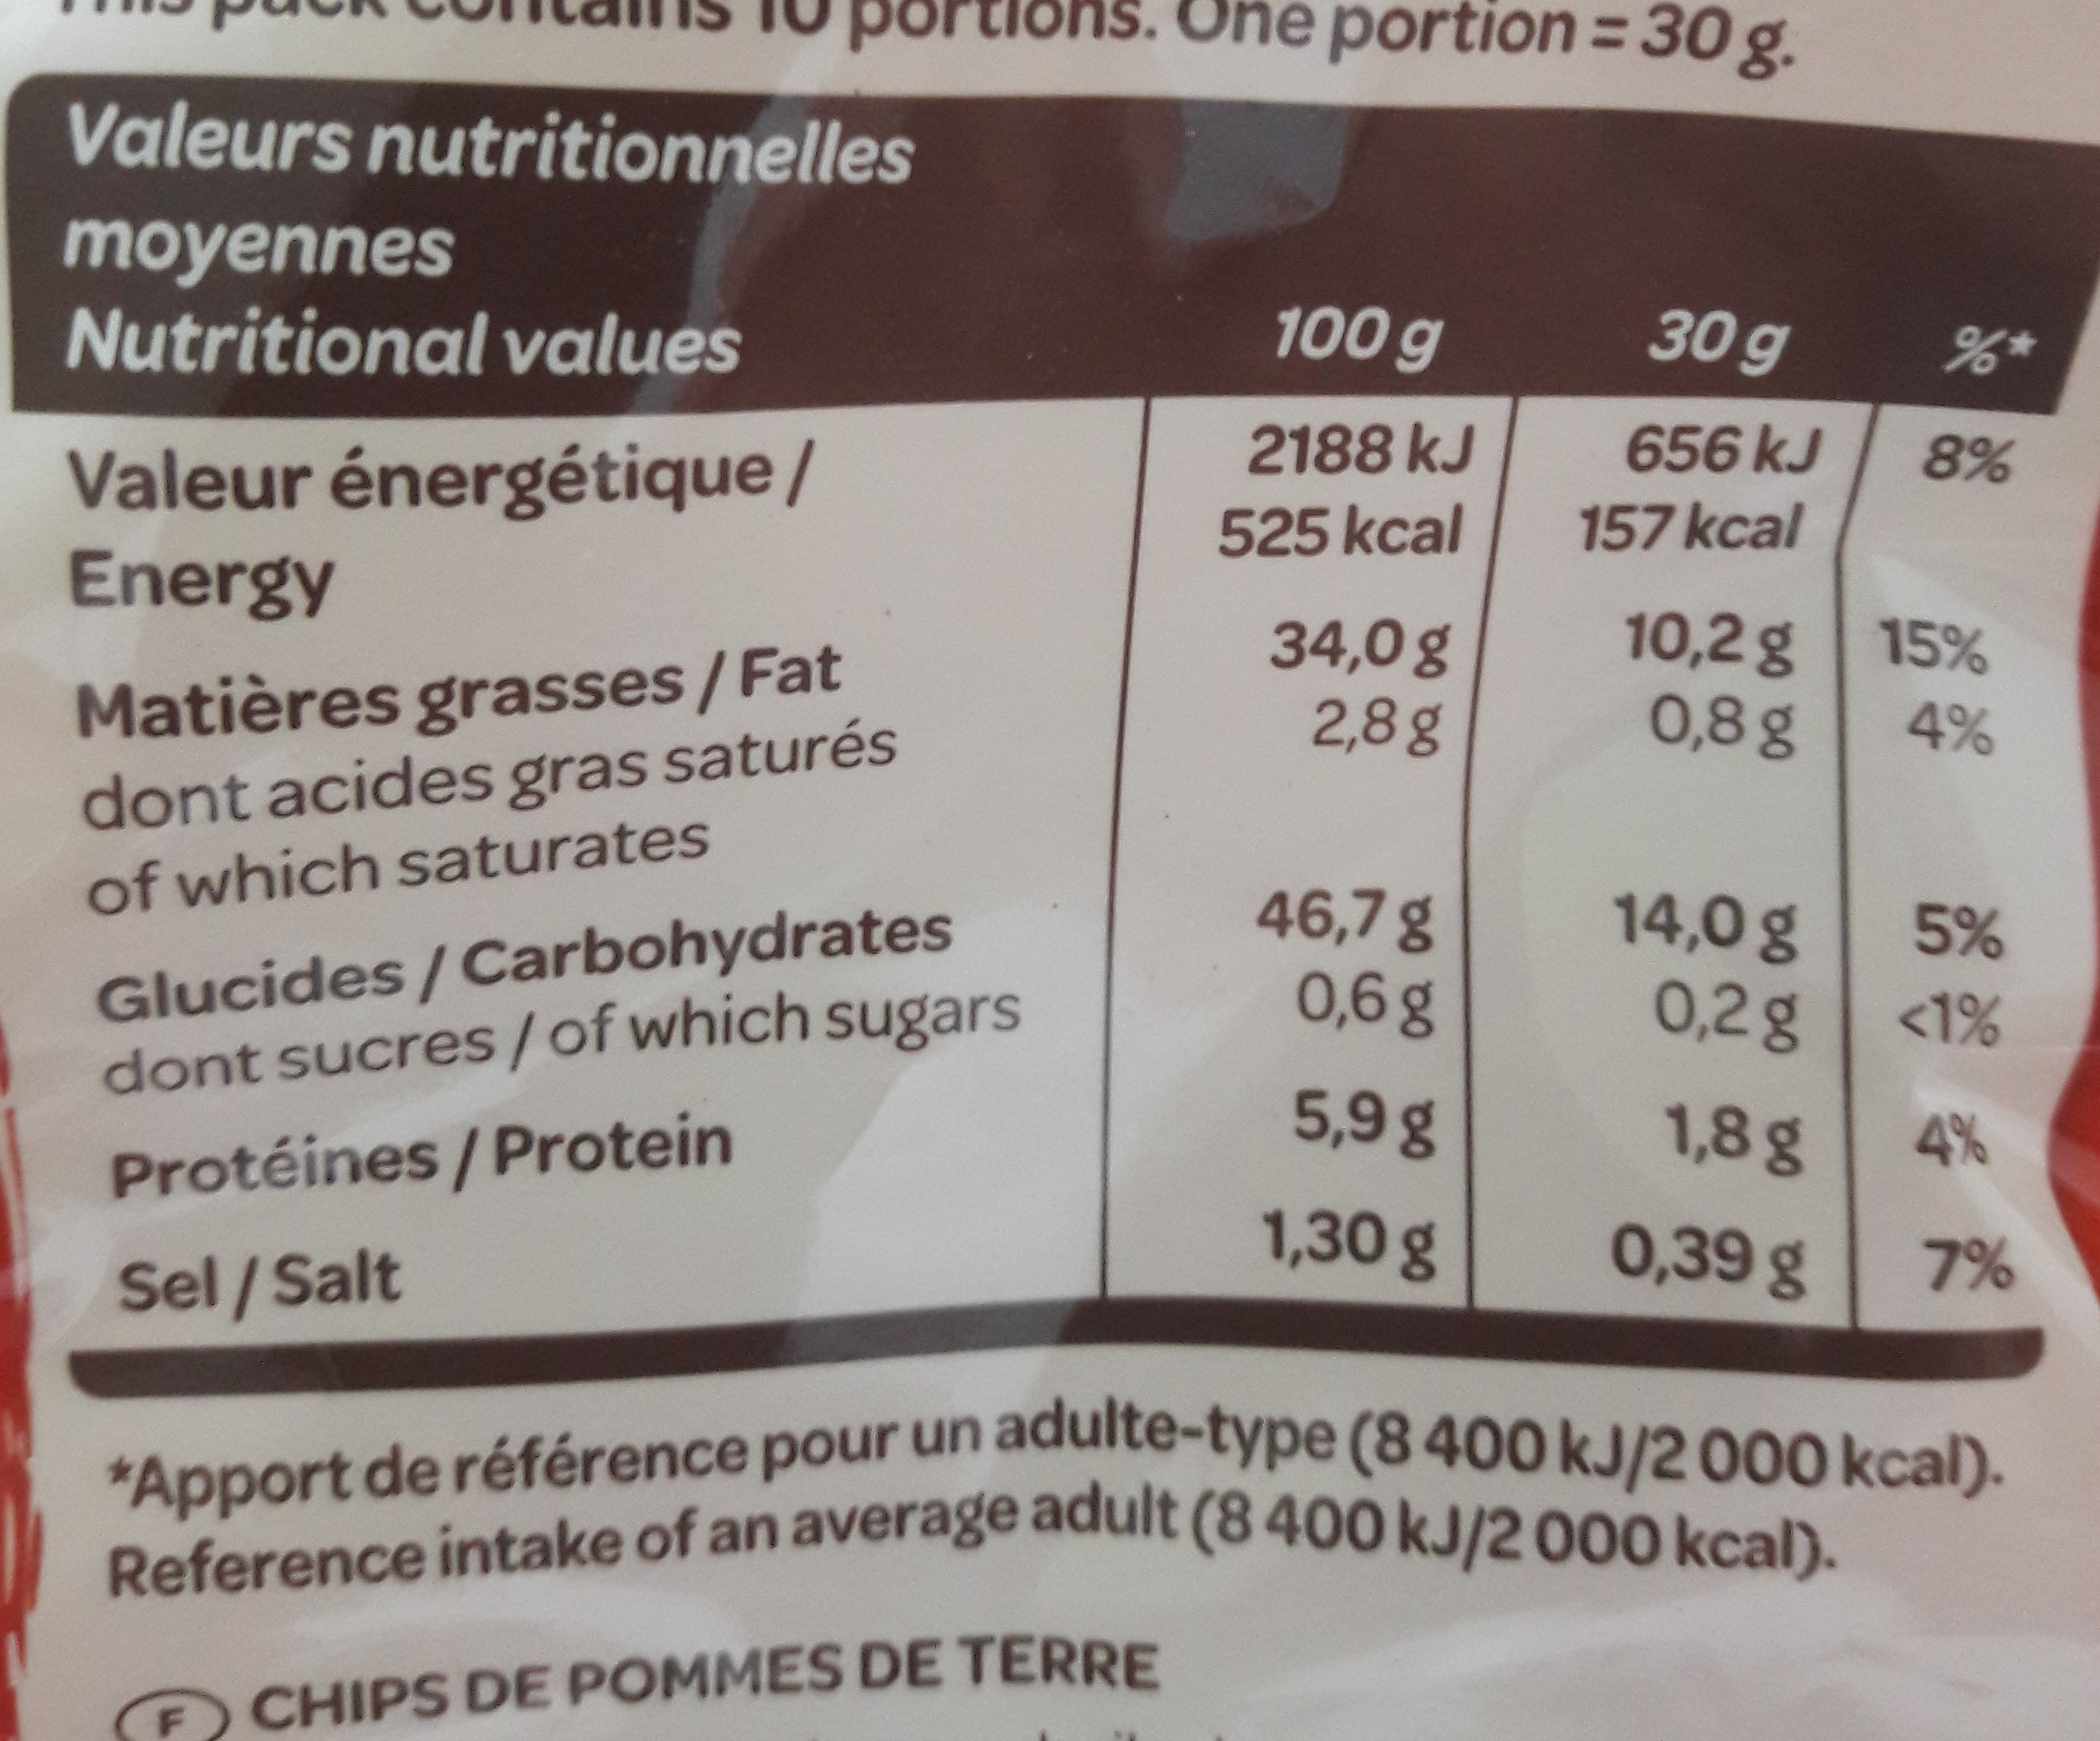column: (54, 399, 1029, 1315), (1563, 305, 1833, 1303), (1205, 293, 1474, 1289), (1887, 309, 2046, 1305)
table: (17, 63, 2081, 1382)
